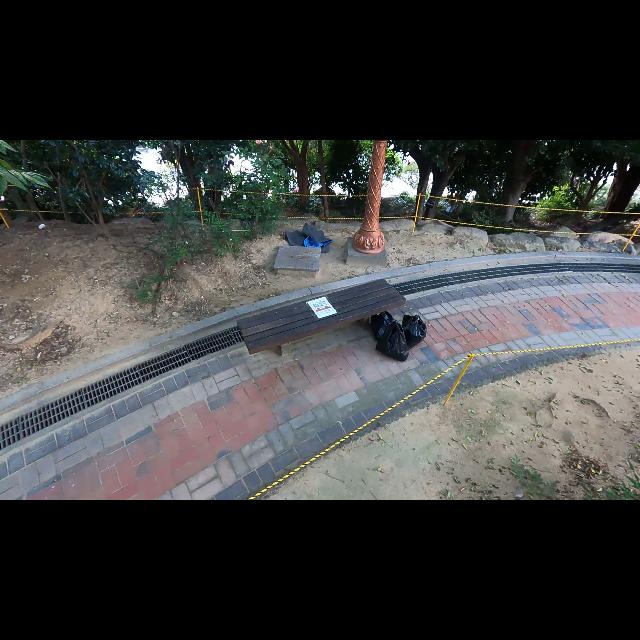trash: (375, 317, 409, 363), (400, 309, 430, 349), (370, 308, 400, 344)
